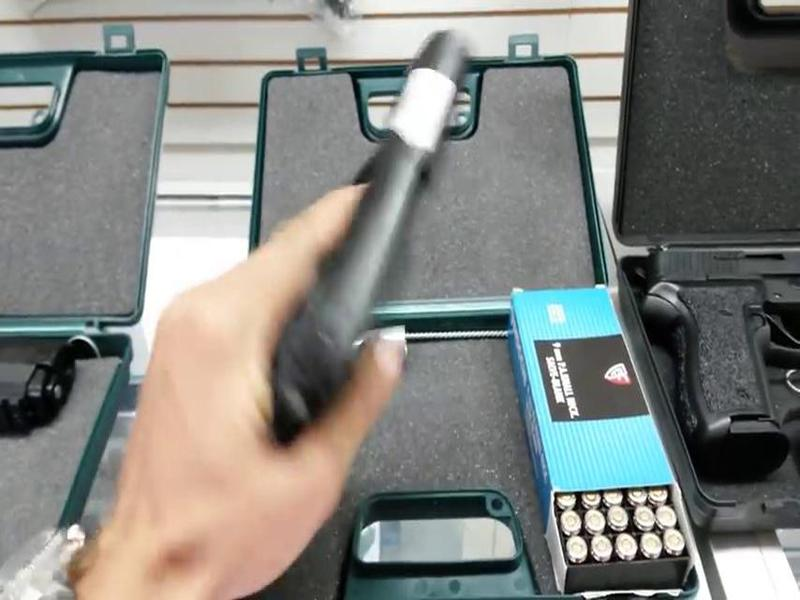Pistola: (247, 15, 491, 433)
